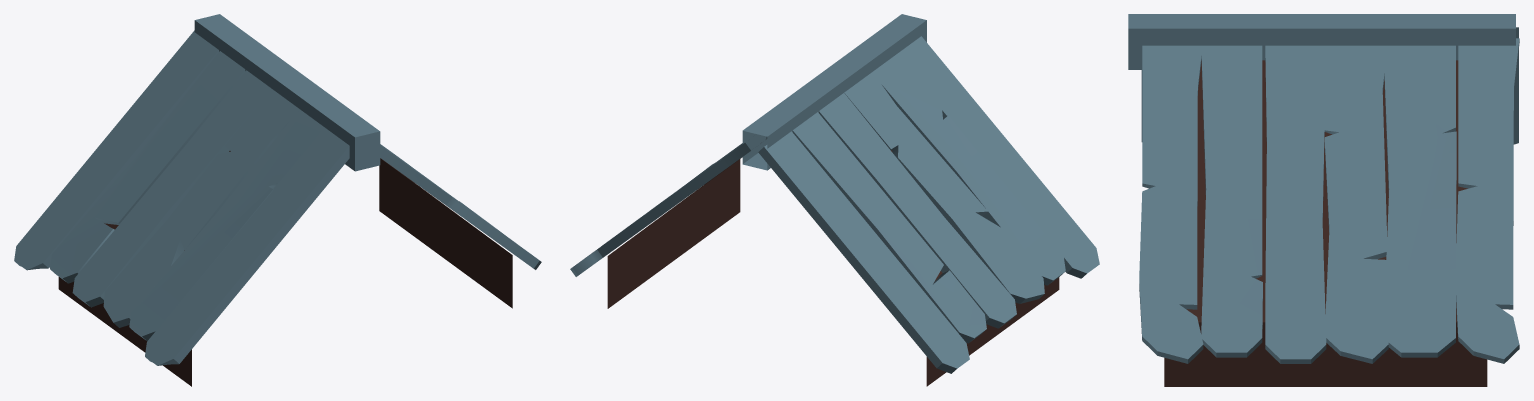
The model's file is Building_Roof_001.glb.
3 renders of one model, left to right at view 1: azimuth 30°, elevation 25°; view 2: azimuth 150°, elevation 25°; view 3: azimuth 270°, elevation 25°, orthographic. The views are drawn at different scales.
Parts seen in each view (by area): view 1: Building_Roof_001; view 2: Building_Roof_001; view 3: Building_Roof_001.
Boxes of the visible parts, left/top/right/bottom form: Building_Roof_001: left=14, top=14, right=541, bottom=386; Building_Roof_001: left=570, top=14, right=1099, bottom=386; Building_Roof_001: left=1128, top=14, right=1519, bottom=386.
Size of the model in its own units: 7.89 by 4.34 by 5.68.
1 material, 1 textured.
